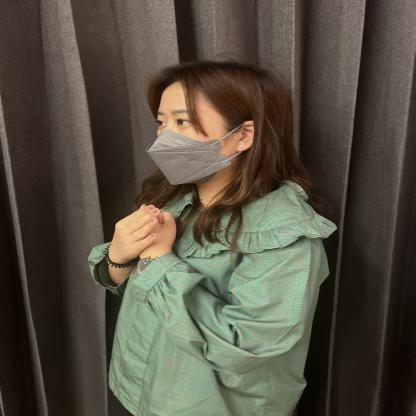Grieve: (62, 179, 277, 311)
